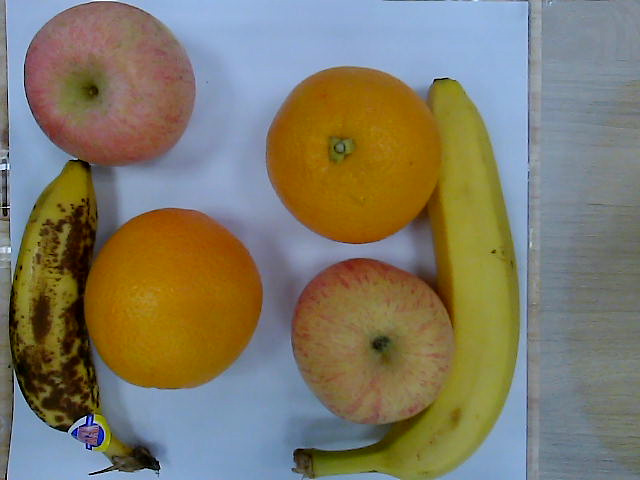fresh_apple: (23, 2, 196, 167), (292, 258, 449, 420)
fresh_banana: (375, 79, 522, 480)
fresh_orange: (84, 210, 263, 390), (265, 69, 439, 244)
rotten_banana: (8, 160, 163, 474)
